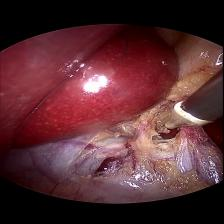Hook: (156, 97, 214, 131)
